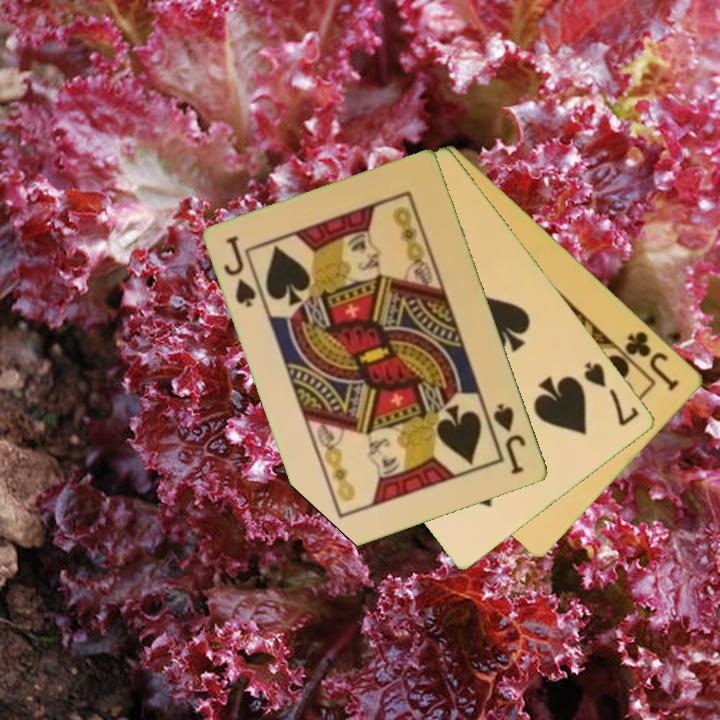7s: (580, 358, 643, 430)
Jc: (621, 327, 683, 394)
Js: (221, 232, 266, 311), (490, 400, 530, 478)
